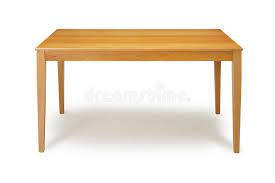desk: (30, 13, 248, 164)
